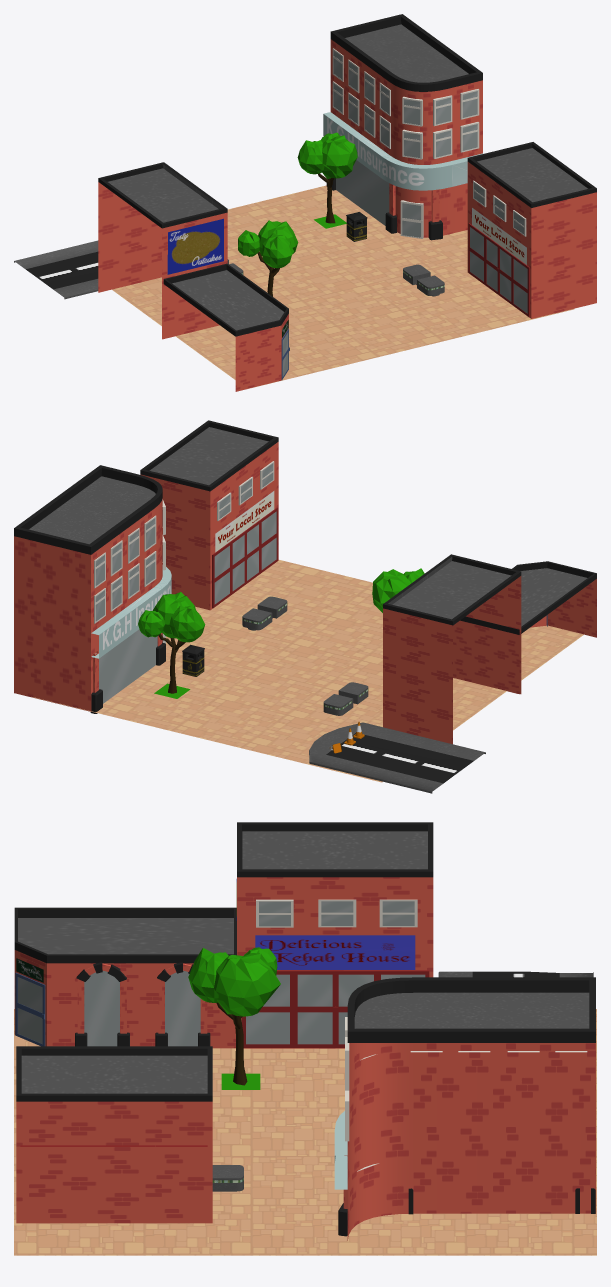
The model's file is First Module.fbx.
The picture shows the model from 3 angles, top to bottom: view 1: azimuth 30°, elevation 25°; view 2: azimuth 150°, elevation 25°; view 3: azimuth 270°, elevation 25°; orthographic projection. The views are drawn at different scales.
Parts seen in each view (by area): view 1: First Module; view 2: First Module; view 3: First Module.
Part boxes in pixels (bbox=[...]): First Module: bbox=[14, 14, 596, 391]; First Module: bbox=[14, 420, 596, 793]; First Module: bbox=[14, 822, 596, 1255].
Size of the model in its own units: 1089 by 407 by 900.
